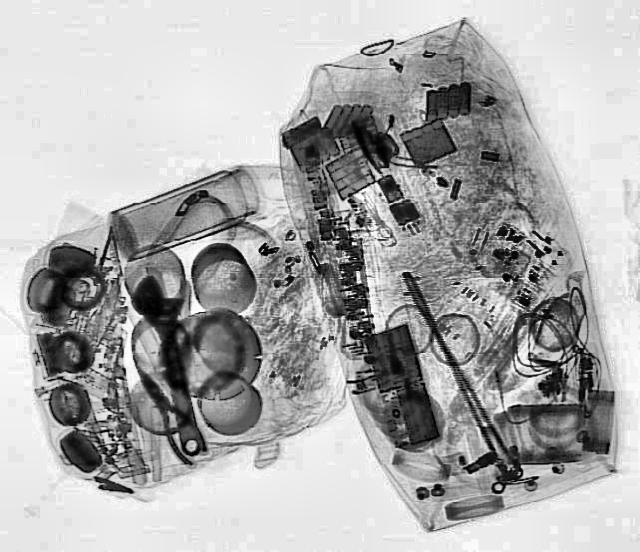Pliers: (126, 366, 214, 464)
Wrench: (125, 270, 217, 460)
